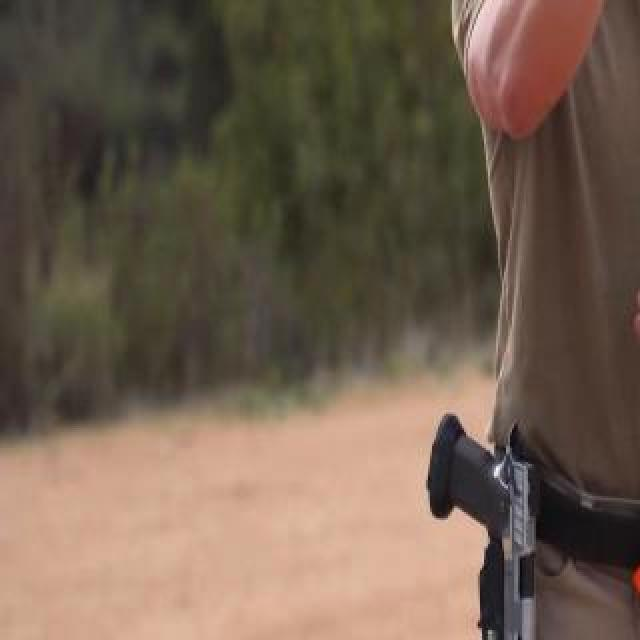Guns: (405, 377, 574, 640)
